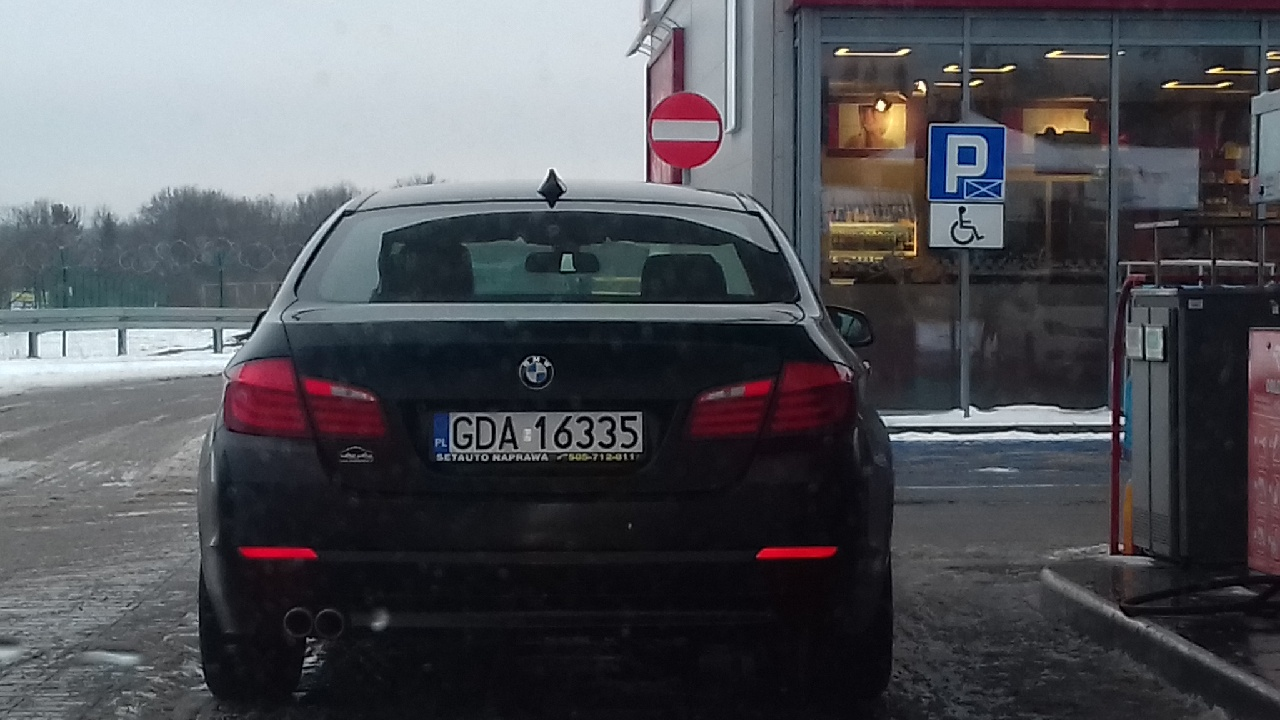B2: (649, 90, 724, 171)
D18: (928, 124, 1009, 203)
